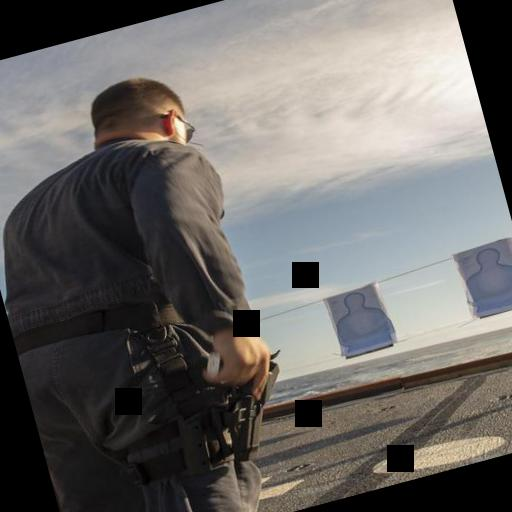Handgun: (166, 340, 314, 480)
